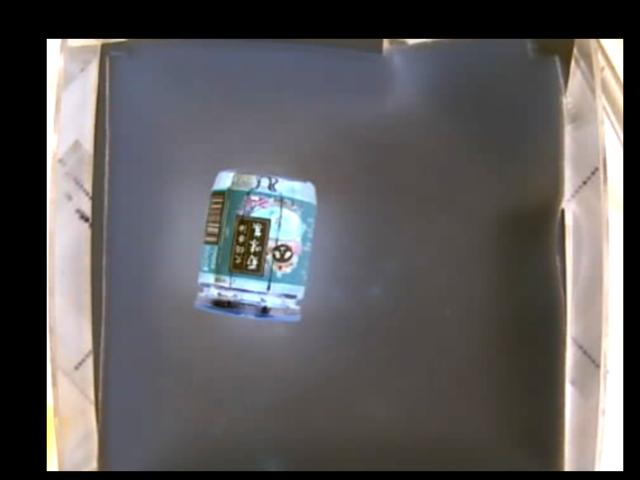Bottle: (189, 171, 316, 323)
